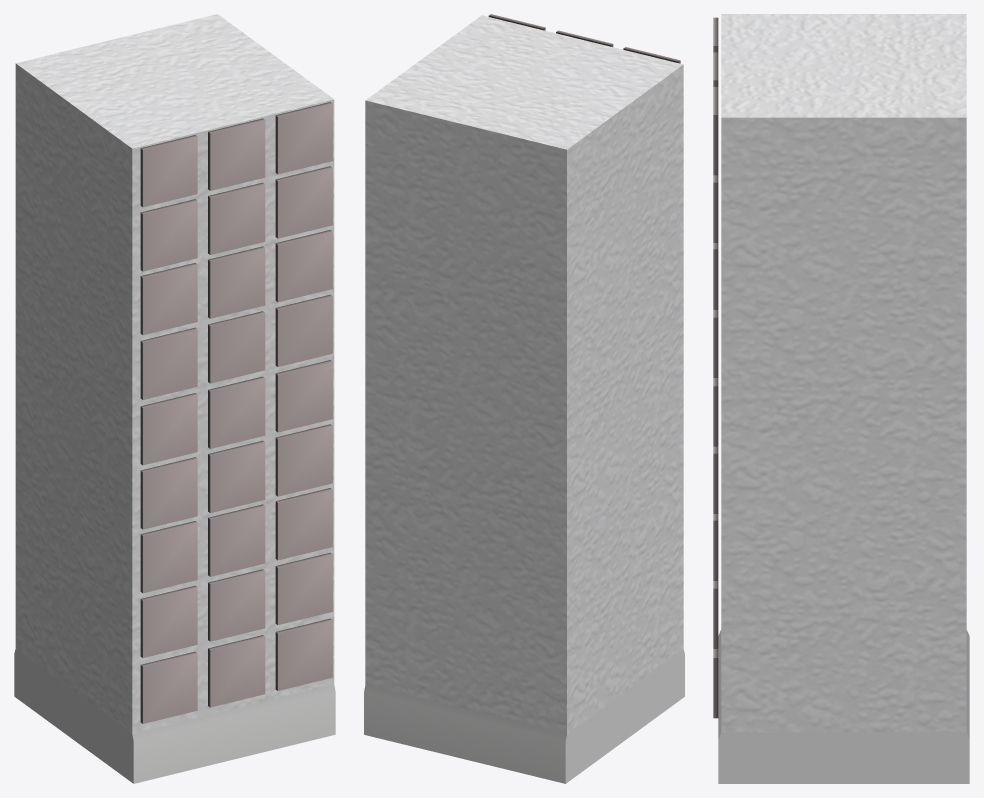
Rendered from scene_wall_tiles.fbx.
3 views of the same model, side by side, from view 1: azimuth 30°, elevation 25°; view 2: azimuth 150°, elevation 25°; view 3: azimuth 270°, elevation 25° (orthographic). The views are drawn at different scales.
Parts seen in each view (by area): view 1: mesh_wall_tiles; view 2: mesh_wall_tiles; view 3: mesh_wall_tiles.
Boxes of the visible parts, x1,y1,x2,y2 form: mesh_wall_tiles: (14,14,335,783); mesh_wall_tiles: (364,14,684,783); mesh_wall_tiles: (713,14,969,783).
Bounding box in the file's own units: 1 × 3 × 1.04.
2 materials, 1 textured.
